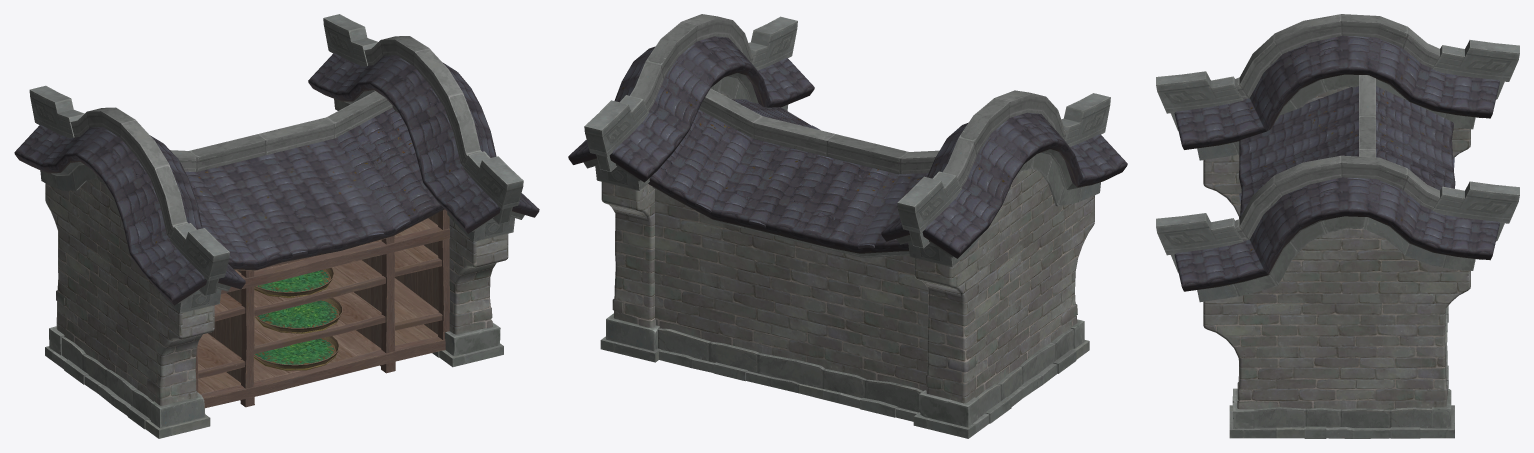
File: Homeworld_Exterior_Cyg_Build_Hstea_01_Lod0.fbx
The picture shows the model from 3 angles, left to right: view 1: azimuth 30°, elevation 25°; view 2: azimuth 150°, elevation 25°; view 3: azimuth 270°, elevation 25°; orthographic projection. The views are drawn at different scales.
Visible parts, largest first — view 1: Area_Cyg_Build_QYZ_Comp_Huishi_I_01_Lod0, Area_Cyg_Prop_QYZ_Shaizi_01_Vo (1), Area_Cyg_Prop_QYZ_Shaizi_01_Vo, Area_Cyg_Prop_QYZ_Shaizi_01_Vo (2); view 2: Area_Cyg_Build_QYZ_Comp_Huishi_I_01_Lod0; view 3: Area_Cyg_Build_QYZ_Comp_Huishi_I_01_Lod0.
Part boxes in pixels (x1=…): Area_Cyg_Build_QYZ_Comp_Huishi_I_01_Lod0: x1=14, y1=14, x2=539, y2=438; Area_Cyg_Prop_QYZ_Shaizi_01_Vo (1): x1=255, y1=297, x2=342, y2=333; Area_Cyg_Prop_QYZ_Shaizi_01_Vo: x1=254, y1=336, x2=339, y2=370; Area_Cyg_Prop_QYZ_Shaizi_01_Vo (2): x1=254, y1=267, x2=334, y2=297; Area_Cyg_Build_QYZ_Comp_Huishi_I_01_Lod0: x1=568, y1=14, x2=1127, y2=438; Area_Cyg_Build_QYZ_Comp_Huishi_I_01_Lod0: x1=1156, y1=14, x2=1519, y2=438.
Size of the model in its own units: 7.42 by 5.17 by 6.4.
